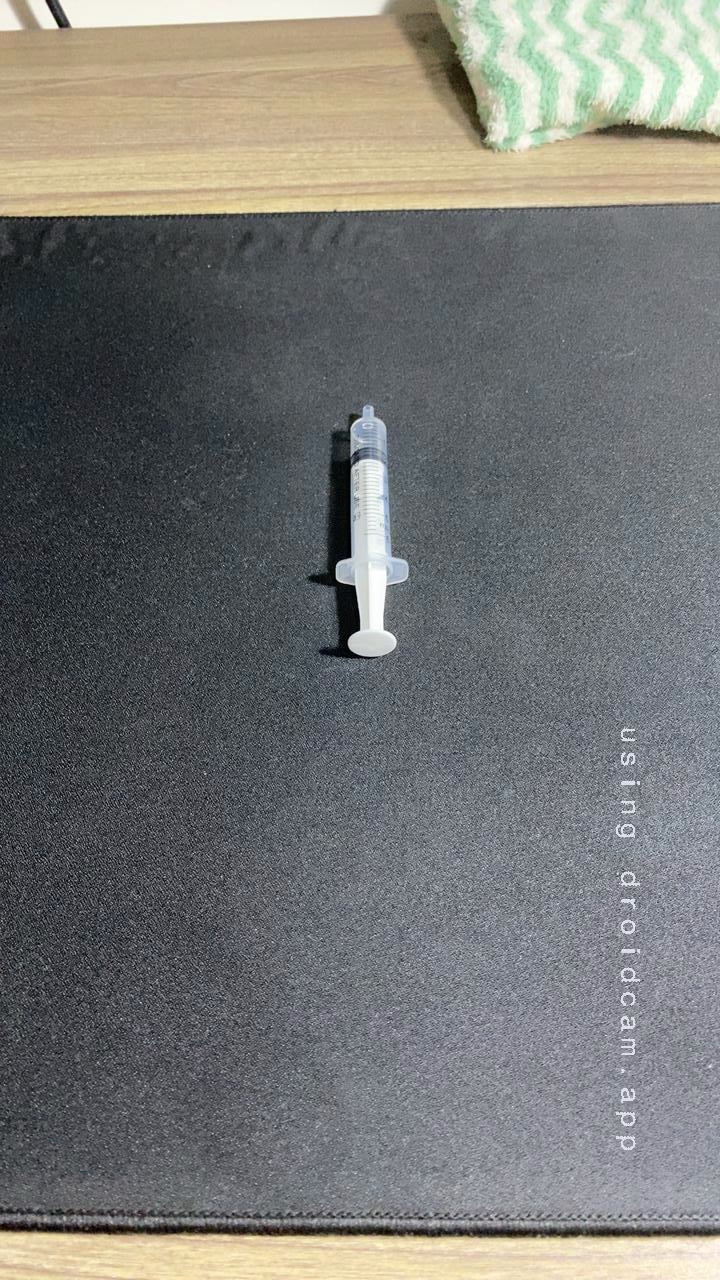syringe: (298, 390, 428, 669)
